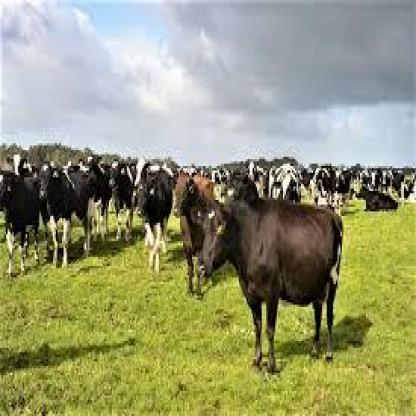cow: (194, 196, 344, 378), (32, 160, 89, 270), (173, 170, 214, 302), (135, 160, 175, 274), (0, 168, 41, 278), (77, 154, 112, 247), (104, 159, 138, 241), (269, 161, 301, 200), (354, 185, 398, 213), (331, 169, 351, 217), (309, 166, 332, 207), (4, 152, 40, 178), (246, 159, 265, 198), (209, 166, 231, 195)
